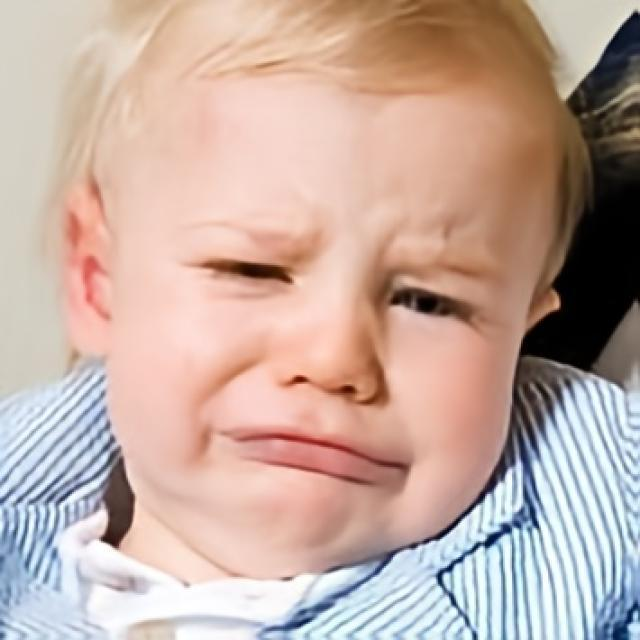sad: (117, 49, 530, 577)
